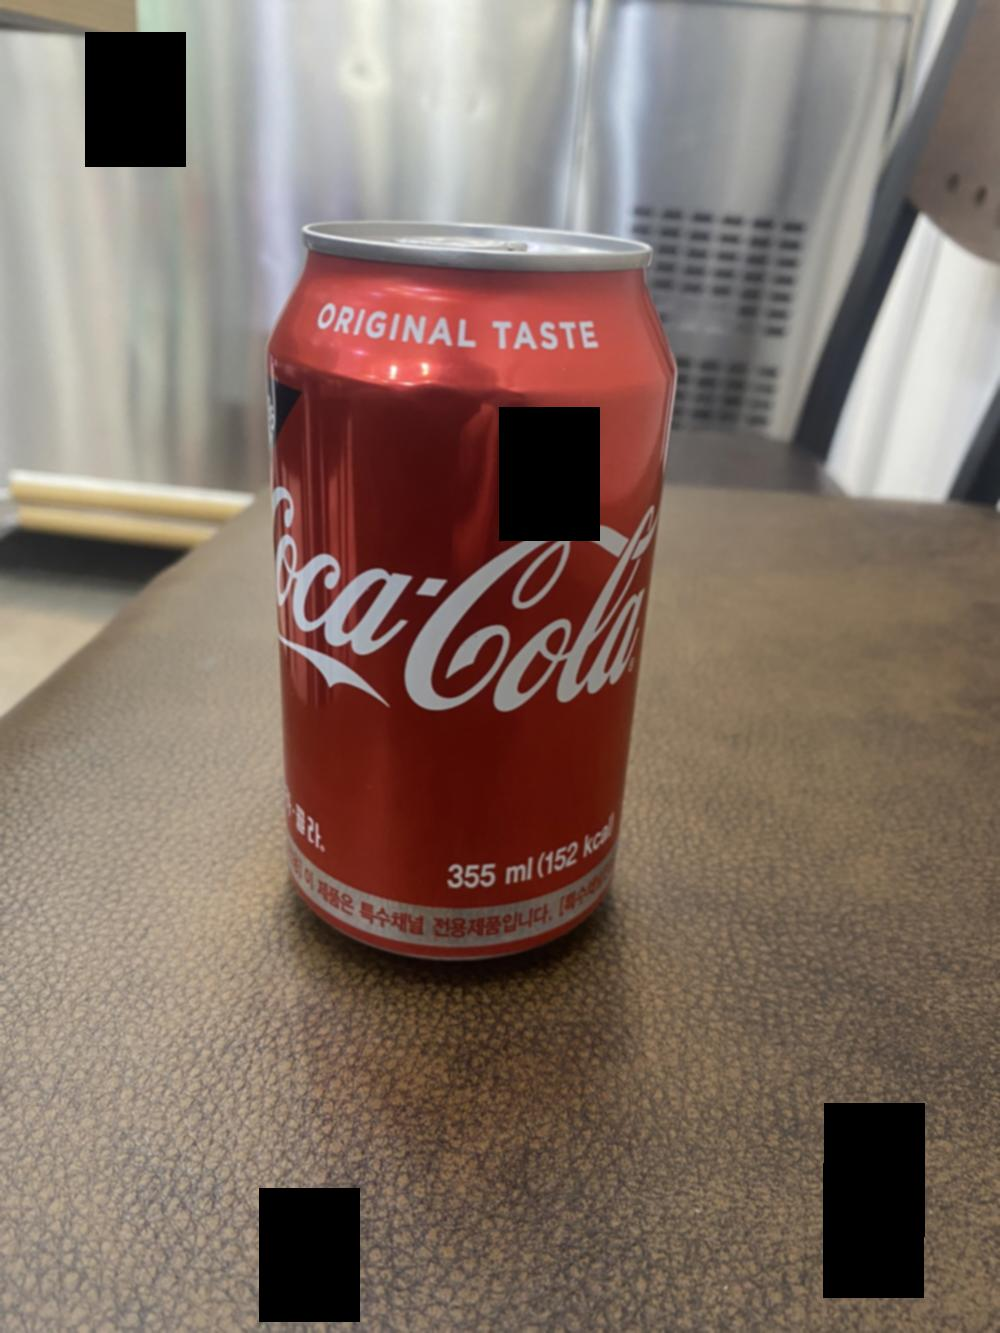cocacola: (268, 207, 691, 987)
